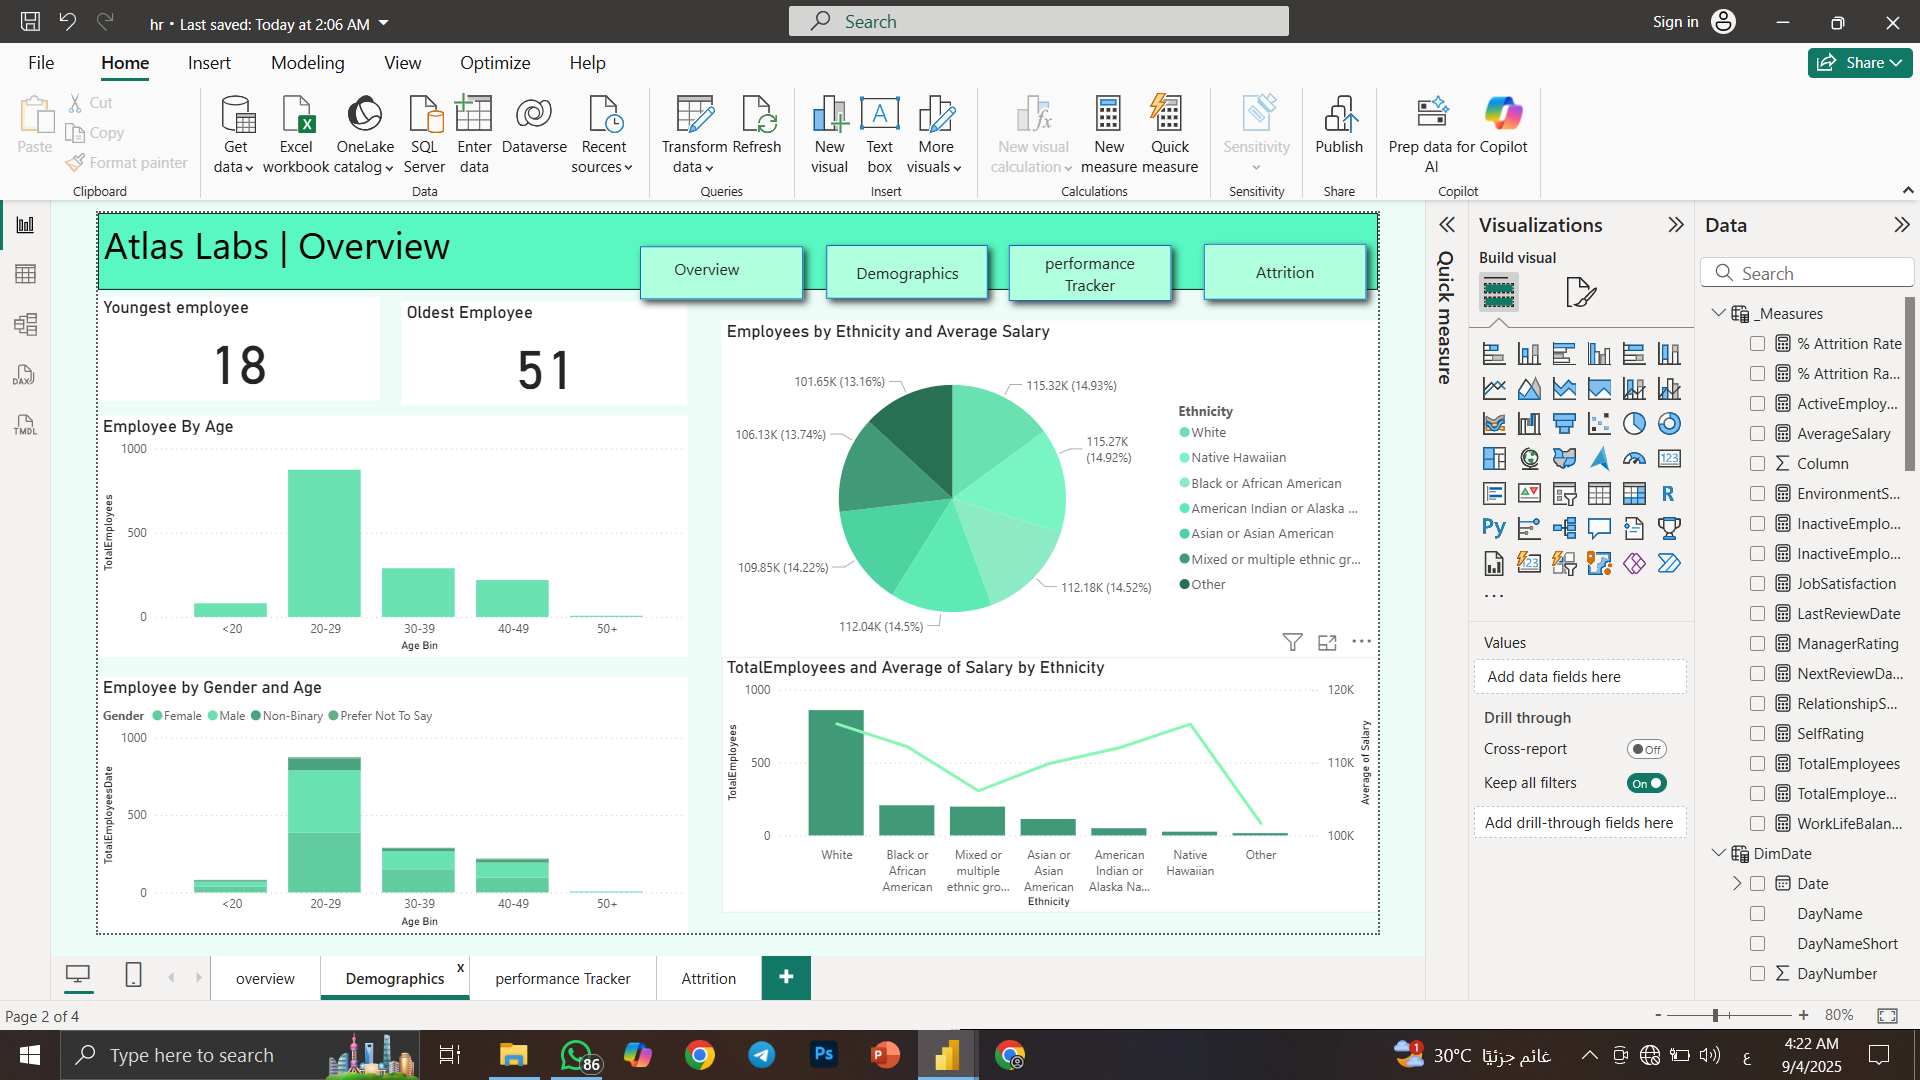

What the dashboard file says about the page in this screenshot:
{"tool":"powerbi","page":{"name":"Demographics","canvas":[1280,720],"ordinal":1},"visuals":[{"type":"textbox","box":[0,0,1280,77.1],"z":0},{"type":"card","title":"Youngest employee","fields":{"Values":["Min(Employee.Age)"]},"box":[0,84.3,281.4,104.3],"z":1000},{"type":"card","title":"Oldest Employee","fields":{"Values":["Max(Employee.Age)"]},"box":[304.3,88.6,285.7,104.3],"z":2000},{"type":"columnChart","title":"Employee By Age","fields":{"Y":["_Measures.TotalEmployees"],"Category":["Employee.Age Bin"]},"box":[0,202.9,590,241.4],"z":3000},{"type":"columnChart","title":" Employee by Gender and Age ","fields":{"Category":["Employee.Age Bin"],"Series":["Employee.Gender"],"Y":["_Measures.TotalEmployeesDate"]},"box":[0,464.3,590,255.7],"z":4000},{"type":"pieChart","title":"Employees by Ethnicity and Average Salary","fields":{"Y":["_Measures.AverageSalary1"],"Category":["Employee.Ethnicity"]},"box":[624.3,107.1,655.7,337.1],"z":5000},{"type":"shape","box":[898.9,20,186.7,80],"z":6000},{"type":"shape","box":[716.9,21.5,185.4,76.2],"z":7000},{"type":"shape","box":[530,21.4,187.1,77.1],"z":8000},{"type":"textbox","box":[573.6,42.1,100,54.3],"z":9000},{"type":"textbox","box":[730,43.3,158.9,45.6],"z":10000},{"type":"textbox","box":[913.3,32.7,156.7,67.3],"z":11000},{"type":"shape","box":[1093.3,18.9,186.7,80],"z":12000},{"type":"textbox","box":[1133.3,42.2,106.7,41.1],"z":13000},{"type":"lineStackedColumnComboChart","fields":{"Category":["Employee.Ethnicity"],"Y":["_Measures.TotalEmployees"],"Y2":["Avg(Employee.Salary)"]},"box":[623.8,463.8,656.2,256.2],"z":14000},{"type":"actionButton","box":[908.7,31.3,166.7,56.7],"z":15000},{"type":"actionButton","box":[725.9,32.9,167.1,54.1],"z":16000},{"type":"actionButton","box":[540.7,32.9,167.1,54.3],"z":17000},{"type":"actionButton","box":[1102.5,31.2,167.5,56.2],"z":18000}]}

Visuals, with their boxes on the page's 1280x720 design canvas (x1, y1, x2, y2). These are canvas units, not pixel positions in the 1920x1080 screenshot, which may show the page scaled, cropped or inside an application window:
textbox: Rect(0, 0, 1280, 77)
"Youngest employee" card: Rect(0, 84, 281, 189)
"Oldest Employee" card: Rect(304, 89, 590, 193)
"Employee By Age" columnChart: Rect(0, 203, 590, 444)
" Employee by Gender and Age " columnChart: Rect(0, 464, 590, 720)
"Employees by Ethnicity and Average Salary" pieChart: Rect(624, 107, 1280, 444)
shape: Rect(899, 20, 1086, 100)
shape: Rect(717, 22, 902, 98)
shape: Rect(530, 21, 717, 98)
textbox: Rect(574, 42, 674, 96)
textbox: Rect(730, 43, 889, 89)
textbox: Rect(913, 33, 1070, 100)
shape: Rect(1093, 19, 1280, 99)
textbox: Rect(1133, 42, 1240, 83)
lineStackedColumnComboChart - Employee.Ethnicity x _Measures.TotalEmployees: Rect(624, 464, 1280, 720)
actionButton: Rect(909, 31, 1075, 88)
actionButton: Rect(726, 33, 893, 87)
actionButton: Rect(541, 33, 708, 87)
actionButton: Rect(1102, 31, 1270, 87)
